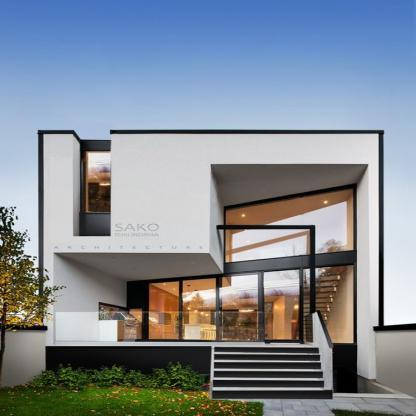Building Outline: (0, 129, 416, 400)
Deco: (53, 245, 204, 250), (114, 222, 159, 237)
Door: (219, 274, 258, 340)
Facade: (37, 129, 386, 401)
Floor Slab: (224, 251, 356, 274)
Glass Wall: (226, 188, 353, 263)
Window: (304, 265, 353, 343), (264, 269, 299, 339), (183, 279, 216, 340), (149, 281, 178, 339), (86, 151, 111, 212)
